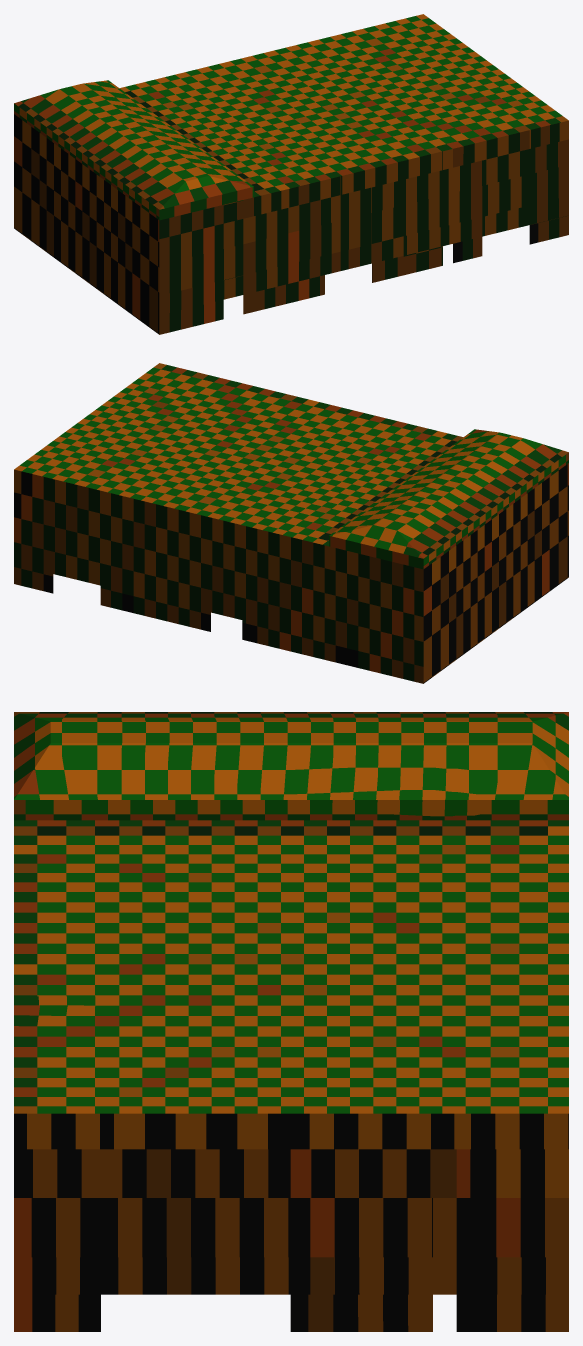
The model's file is bed_696x13.gltf.
The picture shows the model from 3 angles, top to bottom: view 1: azimuth 30°, elevation 25°; view 2: azimuth 150°, elevation 25°; view 3: azimuth 270°, elevation 25°; orthographic projection. The views are drawn at different scales.
Parts seen in each view (by area): view 1: bed_696x13; view 2: bed_696x13; view 3: bed_696x13.
Part boxes in pixels (bbox=[...]): bed_696x13: bbox=[14, 14, 568, 334]; bed_696x13: bbox=[14, 363, 568, 683]; bed_696x13: bbox=[14, 712, 568, 1331].
Size of the model in its own units: 5.2 by 1.67 by 3.2.
1 material, 1 textured.
